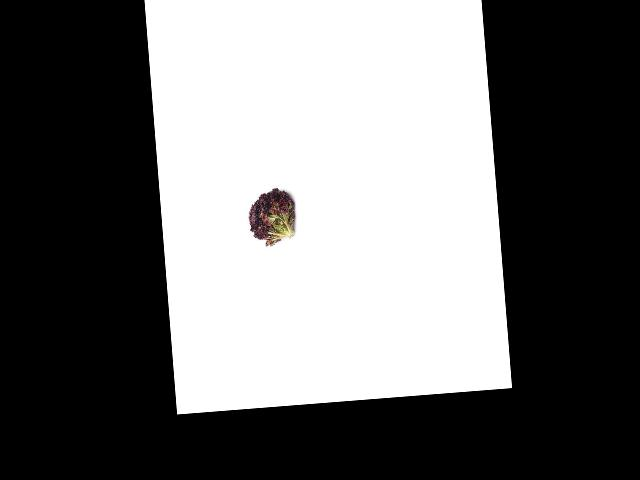lettuce: (244, 184, 300, 244)
